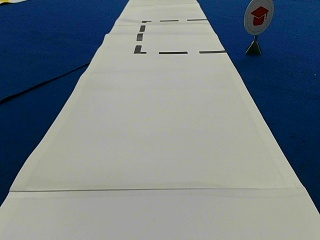school: (243, 1, 273, 34)
